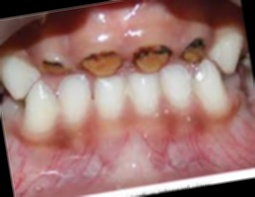Caries: (130, 41, 176, 77), (75, 48, 122, 82), (180, 36, 208, 69), (31, 53, 67, 78)
